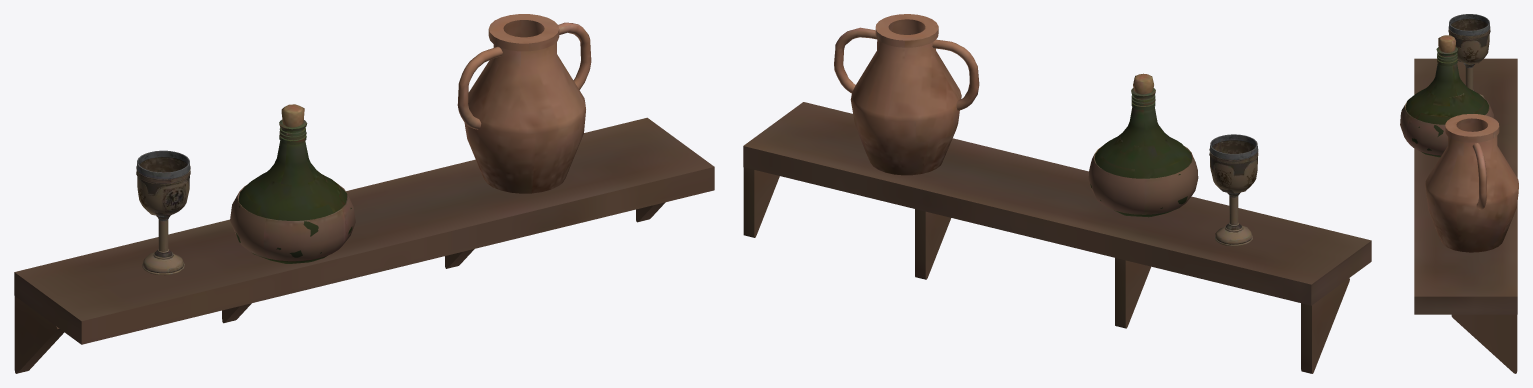
The model's file is SM_wall_shelf_03_dea4d5.glb.
The picture shows the model from 3 angles, left to right: view 1: azimuth 30°, elevation 25°; view 2: azimuth 150°, elevation 25°; view 3: azimuth 270°, elevation 25°; orthographic projection. The views are drawn at different scales.
Bounding box in the file's own units: 1.3 × 0.488 × 0.2747.
4 materials, 4 textured.
